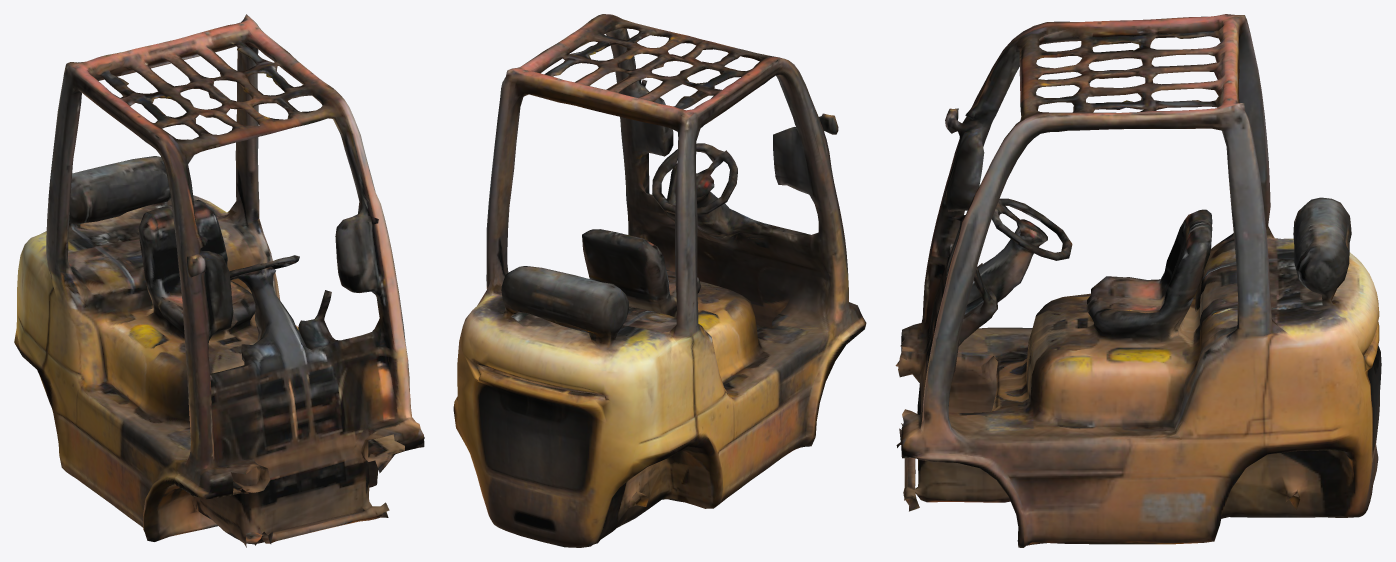
The model's file is body_01.glb.
3 views of the same model, side by side, from view 1: azimuth 30°, elevation 25°; view 2: azimuth 150°, elevation 25°; view 3: azimuth 270°, elevation 25° (orthographic). The views are drawn at different scales.
Parts seen in each view (by area): view 1: Mesh_0; view 2: Mesh_0; view 3: Mesh_0.
Part boxes in pixels (x1,y1,x2,y2): Mesh_0: (14, 14, 424, 547); Mesh_0: (453, 14, 866, 547); Mesh_0: (895, 14, 1381, 547).
Bounding box in the file's own units: 0.6893 × 1.15 × 1.15.
Materials: 1 (1 with a texture image).
